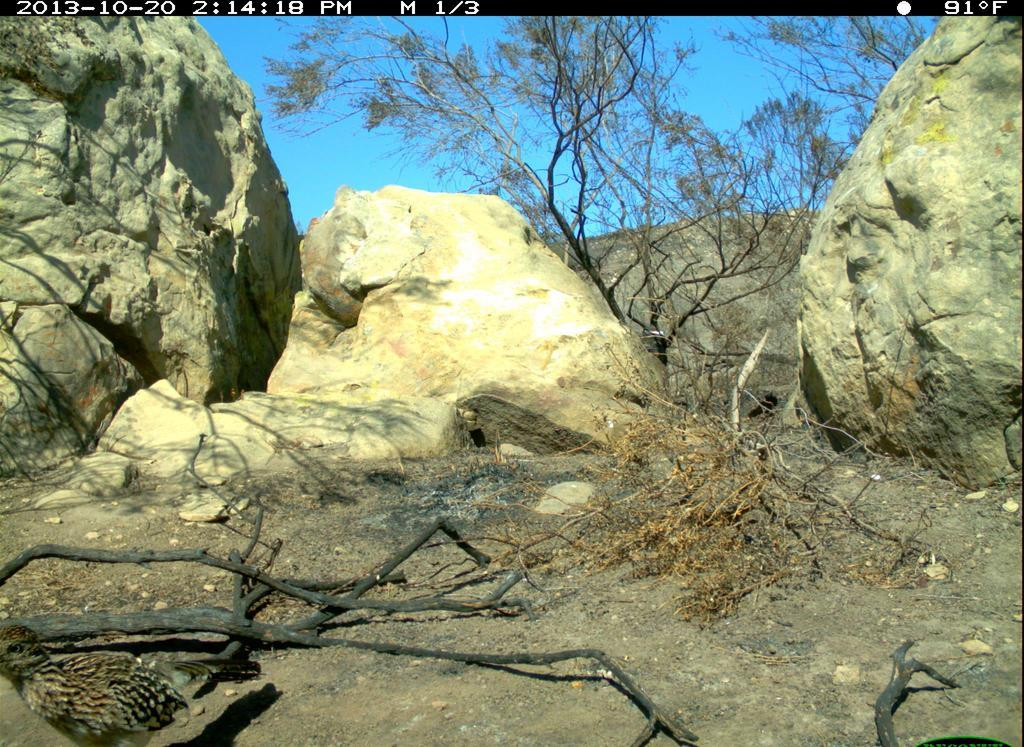bird: (1, 616, 265, 747)
